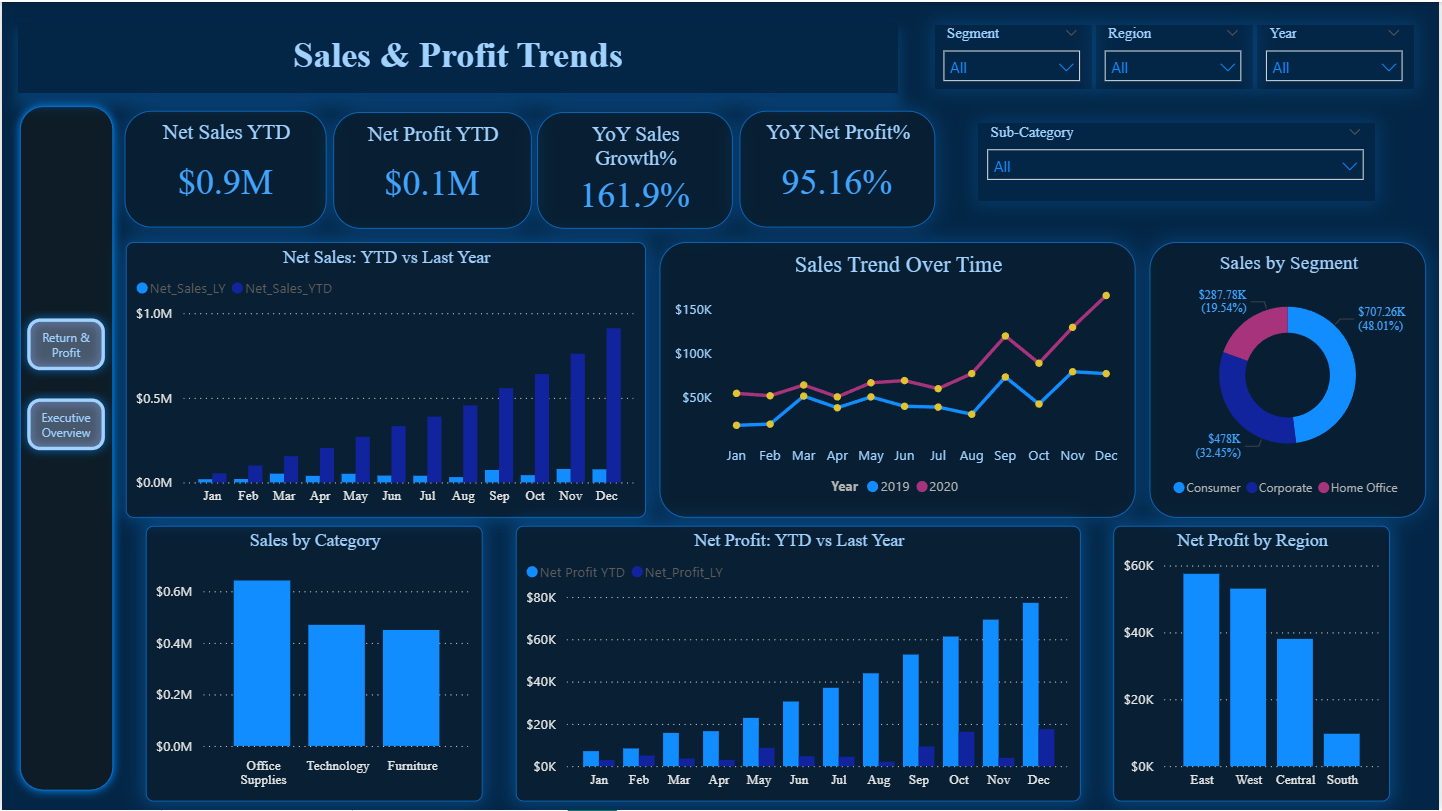

The page's visual inventory and layout, read from the dashboard file:
{"tool":"powerbi","page":{"name":"Sales & Profit Trends","canvas":[1280,720],"ordinal":1},"visuals":[{"type":"card","title":"Net Sales YTD","fields":{"Values":["_Measure.Net_Sales_YTD"]},"box":[109.2,96.9,180.4,104.3],"z":0},{"type":"shape","box":[7.4,84.7,99.4,625.8],"z":1000},{"type":"card","title":"YoY Sales Growth%","fields":{"Values":["_Measure.YoY_Net_Sales%"]},"box":[476,98.1,174.6,103.9],"z":2000},{"type":"card","title":"Net Profit YTD","fields":{"Values":["_Measure.Net_Profit_LY"]},"box":[295,98.2,176.7,104.3],"z":3000},{"type":"card","title":"YoY Net Profit%","fields":{"Values":["_Measure.YoY_Net_Profit%"]},"box":[656.4,96.9,174.2,104.3],"z":4000},{"type":"lineChart","title":"Sales Trend Over Time","fields":{"Y":["_Measure.Total_Sale"],"Category":["Dim_Date.Month Name"],"Series":["Dim_Date.Year"]},"box":[585.8,213.5,424.2,245.3],"z":5000},{"type":"slicer","title":"Profit Margin %","fields":{"Values":["Dim_Date.Year"]},"box":[1118.1,20.2,139.9,57.7],"z":6000},{"type":"textbox","box":[14.4,17.3,783.4,63.5],"z":7000},{"type":"slicer","title":"Profit Margin %","fields":{"Values":["Dim_Customer.Region"]},"box":[973.9,20.2,139.9,57.7],"z":8000},{"type":"slicer","title":"Profit Margin %","fields":{"Values":["Dim_Customer.Segment"]},"box":[830.7,19.6,139.9,57.7],"z":9000},{"type":"clusteredColumnChart","title":"Net Profit by Region","fields":{"Category":["Dim_Customer.Region"],"Y":["_Measure.Net_Profit"]},"box":[989.7,466,246.7,245.3],"z":10000},{"type":"clusteredColumnChart","title":"Sales by Category","fields":{"Category":["Dim_Product.Category"],"Y":["_Measure.Total_Sale"]},"box":[128.4,466,300.1,245.3],"z":11000},{"type":"clusteredColumnChart","title":"Net Sales: YTD vs Last Year","fields":{"Category":["Dim_Date.Month Name"],"Y":["_Measure.Net_Sales_LY","_Measure.Net_Sales_YTD"]},"box":[109.6,213.5,463.1,245.3],"z":12000},{"type":"clusteredColumnChart","title":"Net Profit: YTD vs Last Year","fields":{"Y":["_Measure.Net Profit YTD","_Measure.Net_Profit_LY"],"Category":["Dim_Date.Month Name"]},"box":[457.4,466,503.5,245.3],"z":13000},{"type":"donutChart","title":"Sales by Segment","fields":{"Y":["_Measure.Net_Sales"],"Category":["Dim_Customer.Segment"]},"box":[1021.5,213.5,246.7,245.3],"z":14000},{"type":"actionButton","box":[14.4,344.8,85.1,62],"z":15000},{"type":"actionButton","box":[14.4,274.1,85.1,62],"z":16000},{"type":"slicer","title":"Profit Margin %","fields":{"Values":["Dim_Product.Sub-Category"]},"box":[869.9,108,353.4,69.9],"z":17000}]}

Visuals, with their boxes in screenshot pixels (x1, y1, x2, y2), scaled from the page's 1280x720 canvas onto the 1442x811 screenshot:
"Net Sales YTD" card: pyautogui.locateOnScreen(123, 109, 326, 227)
shape: pyautogui.locateOnScreen(8, 95, 120, 800)
"YoY Sales Growth%" card: pyautogui.locateOnScreen(536, 110, 733, 228)
"Net Profit YTD" card: pyautogui.locateOnScreen(332, 111, 531, 228)
"YoY Net Profit%" card: pyautogui.locateOnScreen(739, 109, 936, 227)
"Sales Trend Over Time" lineChart: pyautogui.locateOnScreen(660, 240, 1138, 517)
"Profit Margin %" slicer: pyautogui.locateOnScreen(1260, 23, 1417, 88)
textbox: pyautogui.locateOnScreen(16, 19, 899, 91)
"Profit Margin %" slicer: pyautogui.locateOnScreen(1097, 23, 1255, 88)
"Profit Margin %" slicer: pyautogui.locateOnScreen(936, 22, 1093, 87)
"Net Profit by Region" clusteredColumnChart: pyautogui.locateOnScreen(1115, 525, 1393, 801)
"Sales by Category" clusteredColumnChart: pyautogui.locateOnScreen(145, 525, 483, 801)
"Net Sales: YTD vs Last Year" clusteredColumnChart: pyautogui.locateOnScreen(123, 240, 645, 517)
"Net Profit: YTD vs Last Year" clusteredColumnChart: pyautogui.locateOnScreen(515, 525, 1083, 801)
"Sales by Segment" donutChart: pyautogui.locateOnScreen(1151, 240, 1429, 517)
actionButton: pyautogui.locateOnScreen(16, 388, 112, 458)
actionButton: pyautogui.locateOnScreen(16, 309, 112, 379)
"Profit Margin %" slicer: pyautogui.locateOnScreen(980, 122, 1378, 200)
